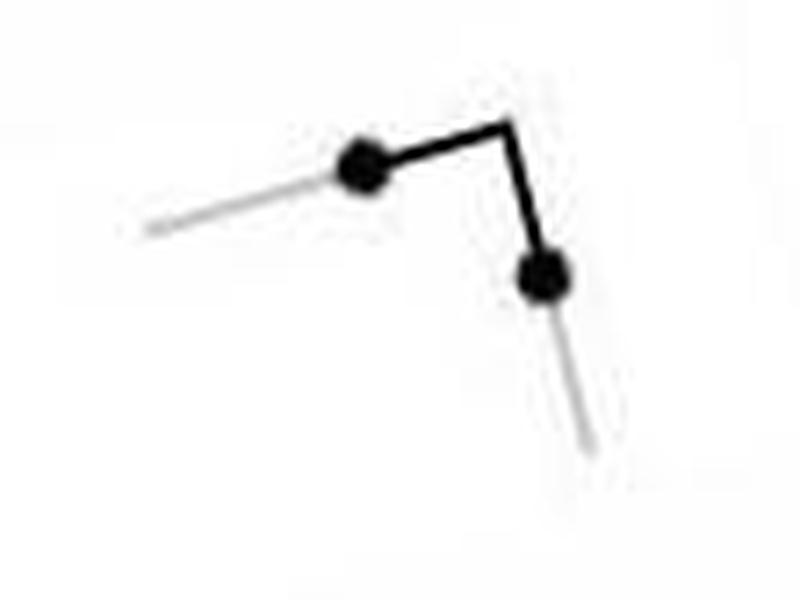butt_weld_90: (130, 63, 627, 354)
